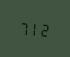one: (29, 19, 38, 37)
seven: (18, 18, 27, 36)
two: (39, 20, 48, 37)
